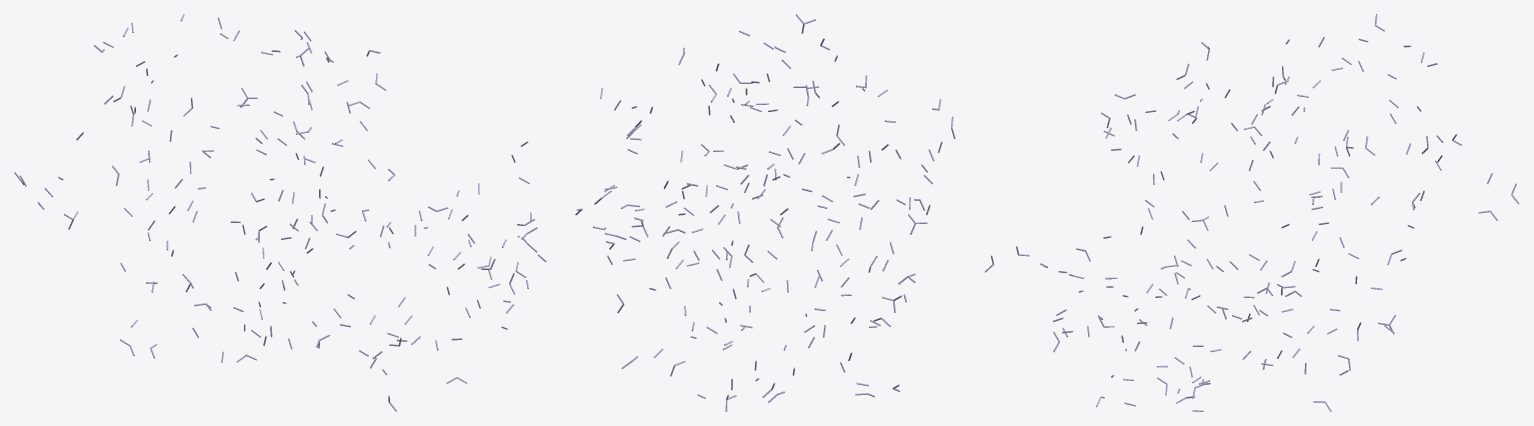
Rendered from 1lyz__lines__b-factor__H.glb.
The picture shows the model from 3 angles, left to right: view 1: azimuth 30°, elevation 25°; view 2: azimuth 150°, elevation 25°; view 3: azimuth 270°, elevation 25°; orthographic projection. The views are drawn at different scales.
Visible parts, largest first — view 1: Renderer Node; view 2: Renderer Node; view 3: Renderer Node.
Part boxes in pixels (box(x1,y1,x2,y2)): Renderer Node: box(14, 14, 546, 411); Renderer Node: box(575, 14, 955, 411); Renderer Node: box(984, 14, 1519, 411).
Bounding box in the file's own units: 37.94 × 31.19 × 45.55.
